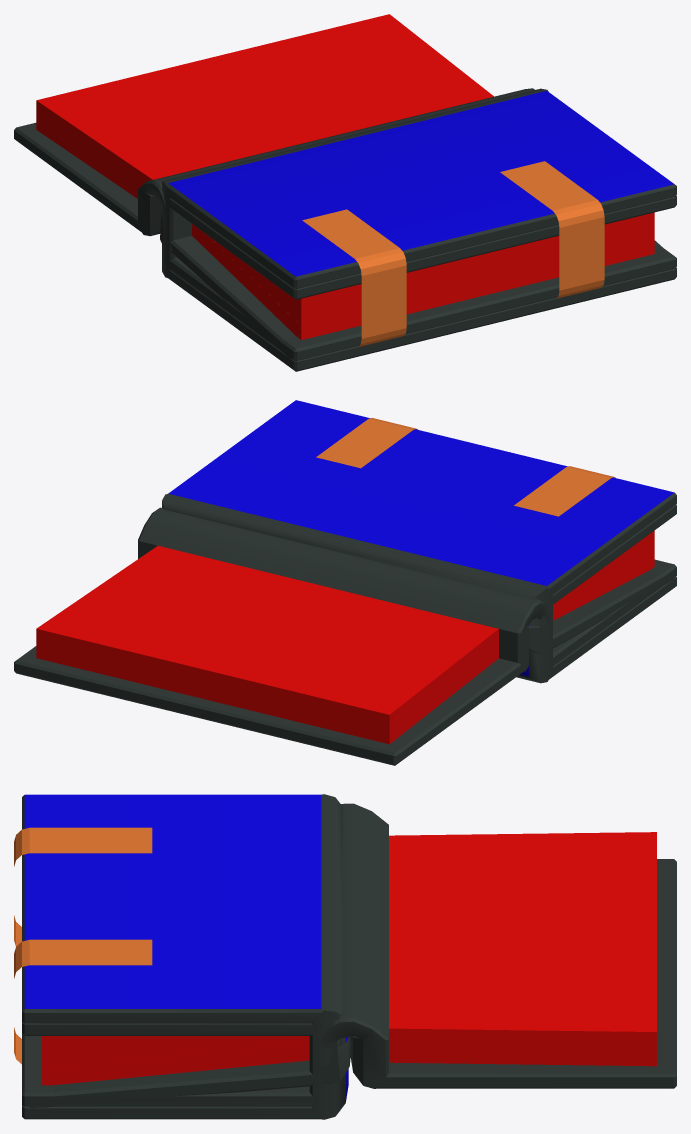
File: Books.fbx
3 views of the same model, one above another, from view 1: azimuth 30°, elevation 25°; view 2: azimuth 150°, elevation 25°; view 3: azimuth 270°, elevation 25° (orthographic). The views are drawn at different scales.
Visible parts, largest first — view 1: SM_Book_Type_2, SM_Book_Type_3, SM_Book_Type_1; view 2: SM_Book_Type_3, SM_Book_Type_2, SM_Book_Type_1; view 3: SM_Book_Type_3, SM_Book_Type_2, SM_Book_Type_1.
Part boxes in pixels (box(x1,y1,x2,y2)): SM_Book_Type_2: box(162, 88, 676, 360); SM_Book_Type_3: box(14, 14, 662, 359); SM_Book_Type_1: box(162, 192, 676, 371); SM_Book_Type_3: box(14, 507, 674, 765); SM_Book_Type_2: box(162, 400, 676, 672); SM_Book_Type_1: box(516, 504, 676, 683); SM_Book_Type_3: box(30, 803, 676, 1108); SM_Book_Type_2: box(14, 794, 348, 1107); SM_Book_Type_1: box(22, 1022, 348, 1119).
Bounding box in the file's own units: 43.53 × 33.7 × 8.1.
